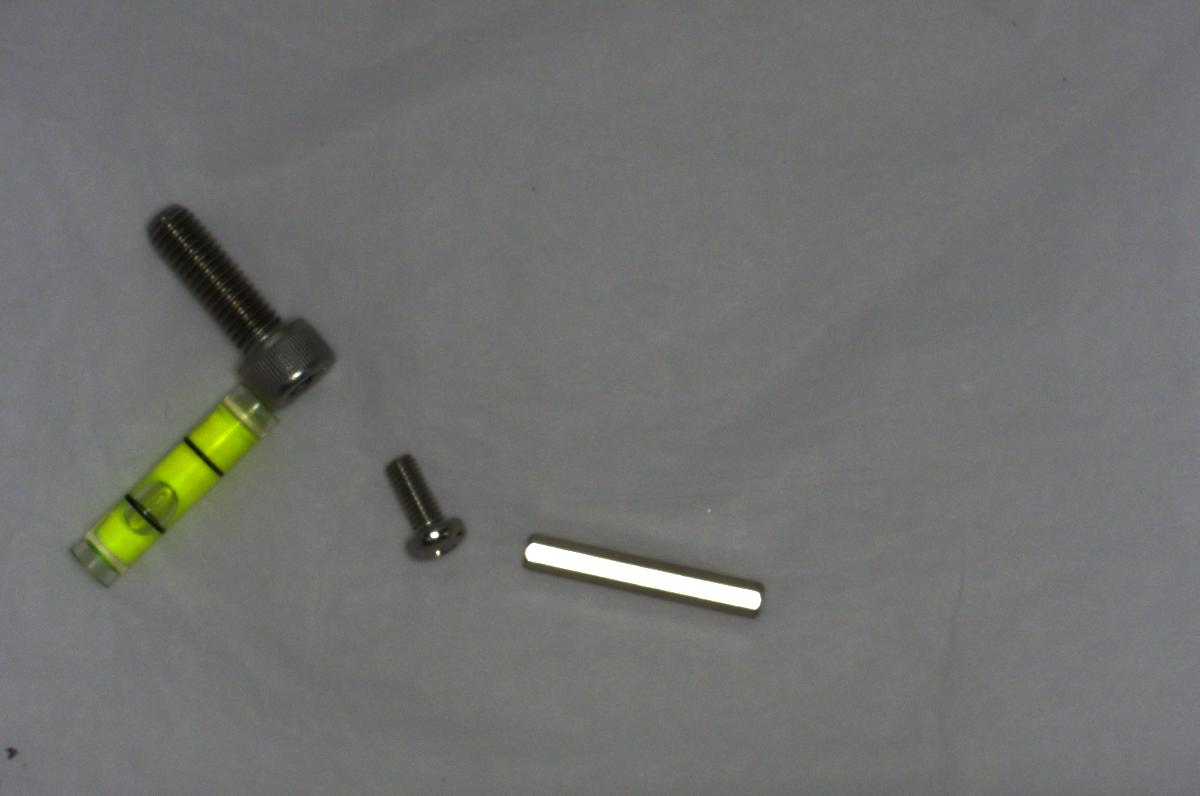Double hexagonal column: (510, 527, 768, 629)
Hexagon screw: (150, 201, 337, 407)
Horizontal bubble: (58, 375, 282, 592)
Round head screw: (380, 442, 472, 570)
